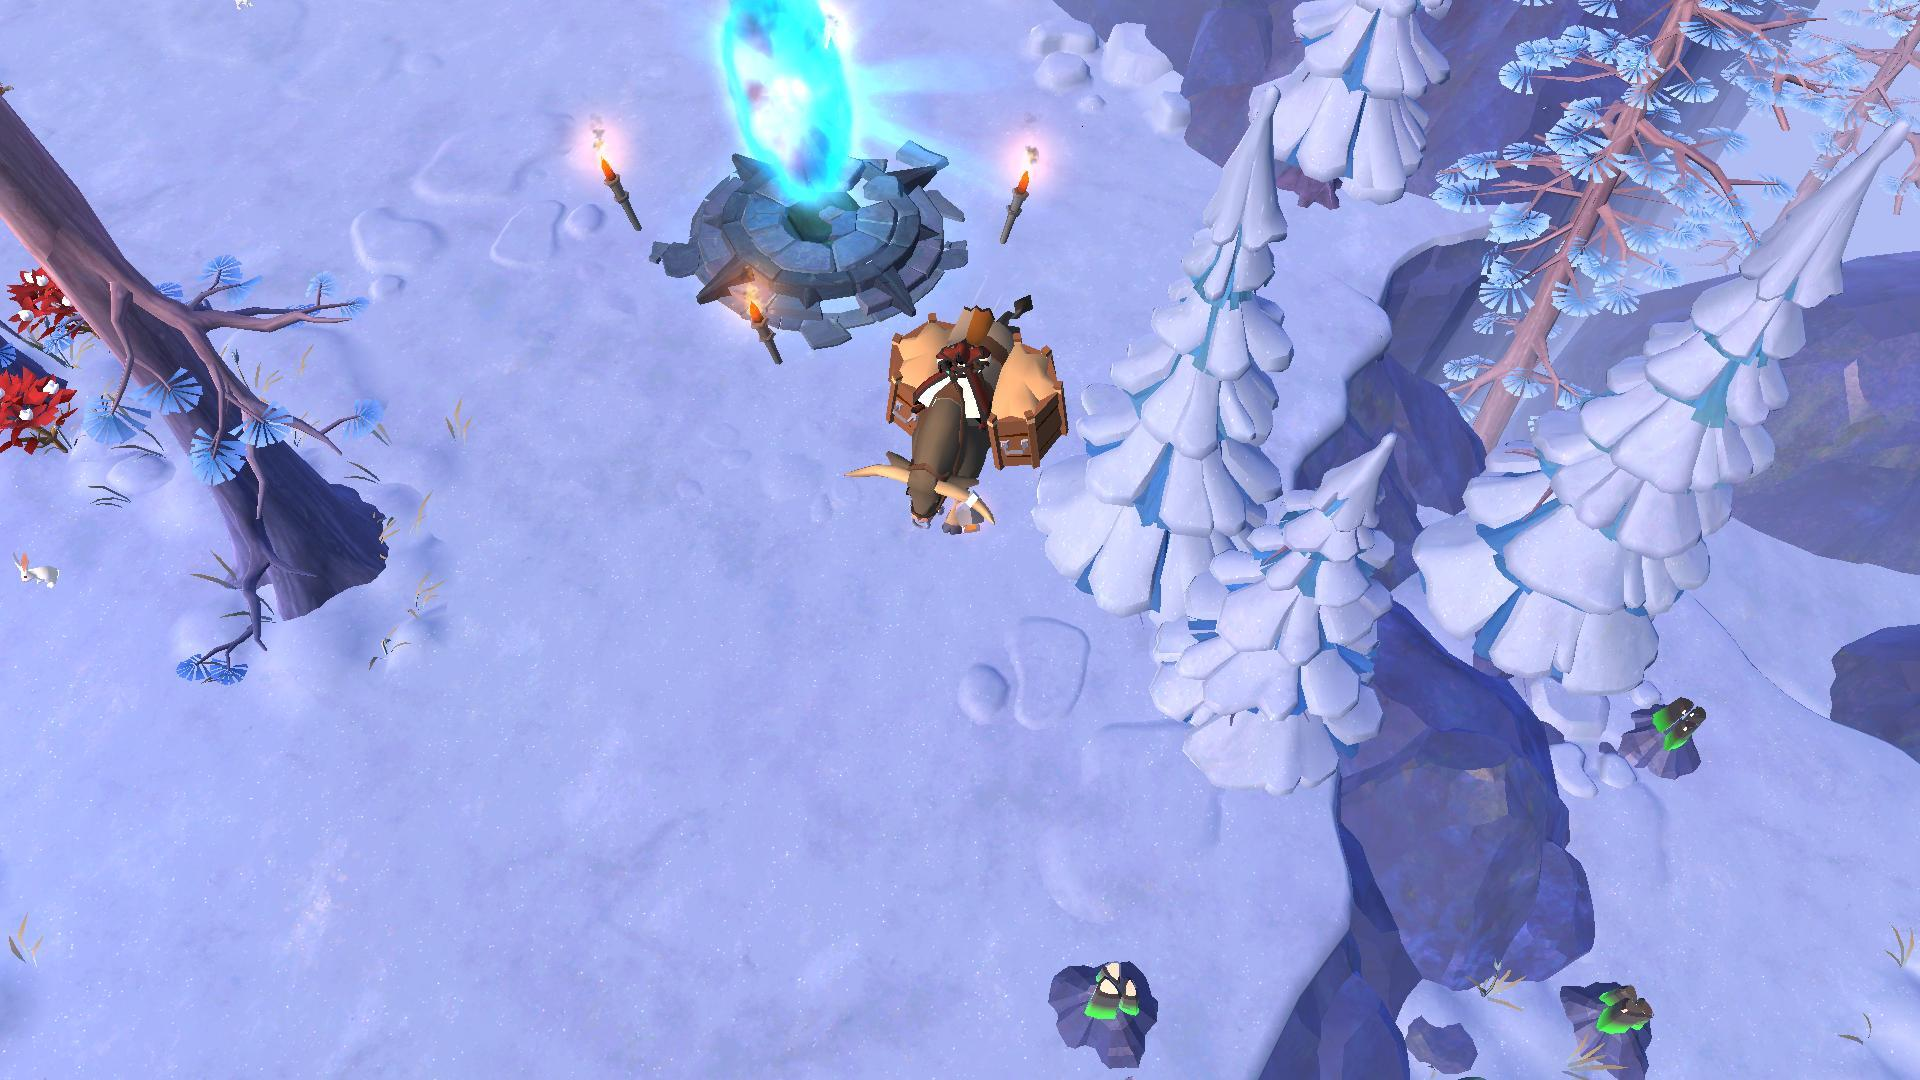fiber_t5: (0, 363, 82, 460), (11, 268, 94, 340)
ore_t3: (1575, 976, 1656, 1052), (1080, 956, 1150, 1038), (1644, 690, 1709, 757)
